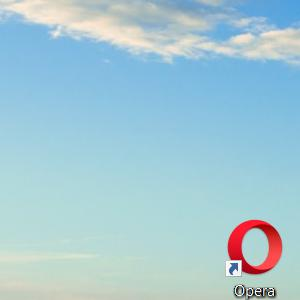opera: (225, 219, 283, 277)
